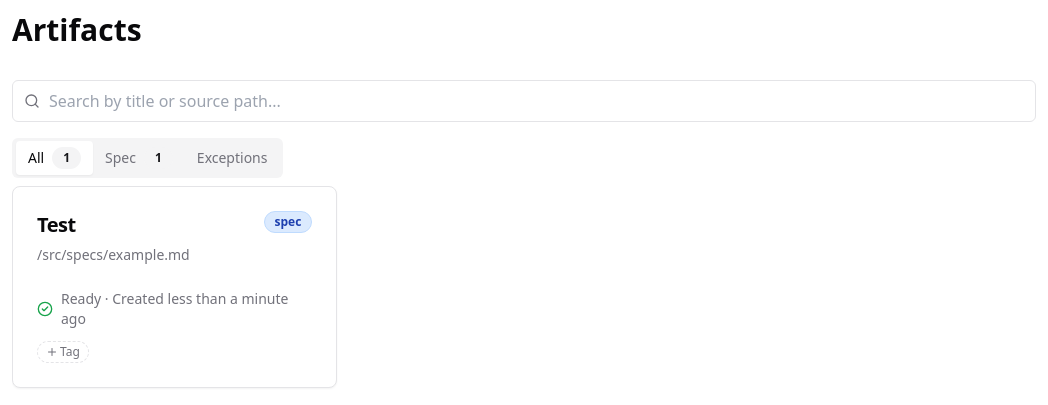
it: ArtifactListView › displays empty state when search returns no results
This screenshot has width=1048, height=405.
Type "NonExistent" into the field with placeholder "Search by title or source path...".
click(524, 101); type("NonExistent")  # box left=12, top=80, right=1036, bottom=122
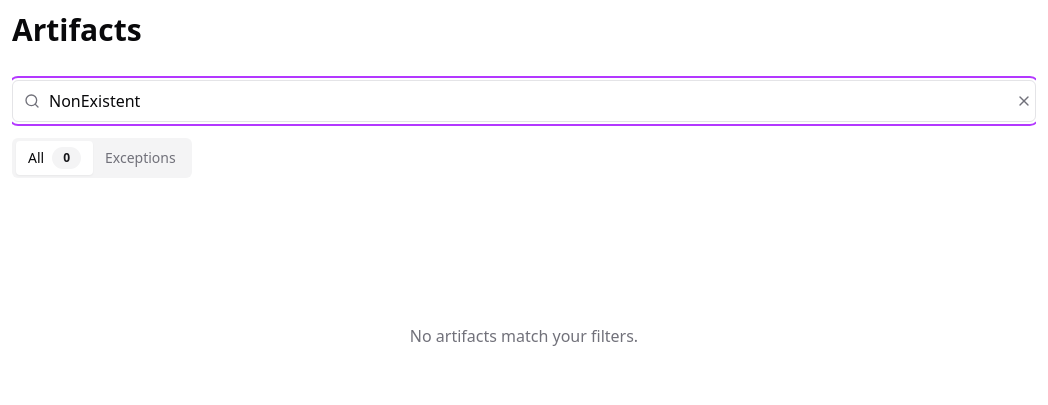
Check: the text "No artifacts match your filters." is shown, box left=410, top=324, right=638, bottom=348
